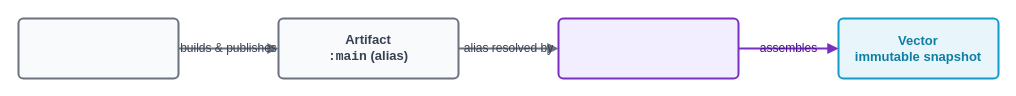
The diagram is 1016 pixels wide and 96 high, and some of its shapes have lost their labels. The shapes that lost their labels are listed below. From the top down, each one's box as (x1, y1, x2, y2) in pixels, then its label:
(17, 17, 179, 79): CI pipeline
(557, 17, 739, 79): VectorTemplate
